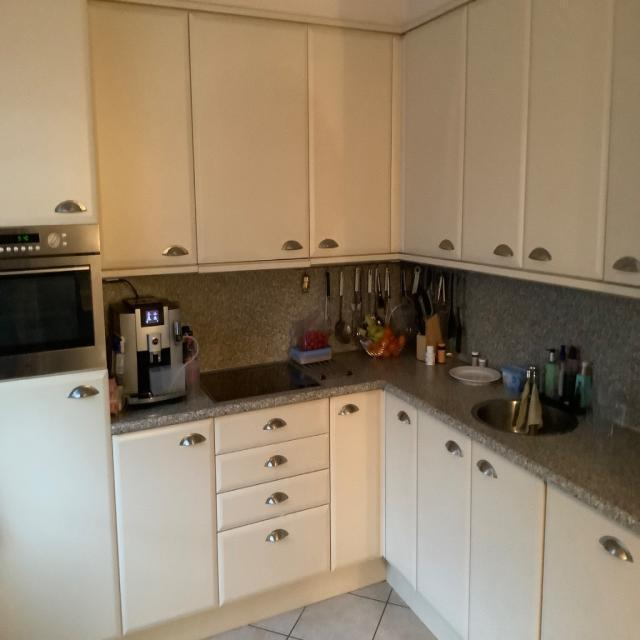cabinet_door: (0, 373, 117, 640), (200, 33, 312, 261), (98, 15, 190, 265), (0, 0, 94, 225), (114, 428, 218, 623), (528, 0, 603, 270), (309, 40, 391, 255), (461, 5, 519, 263), (399, 46, 463, 259), (472, 457, 540, 640), (545, 522, 637, 639), (604, 2, 636, 285), (418, 423, 465, 597), (336, 398, 376, 560), (223, 522, 324, 581), (388, 403, 416, 565), (220, 409, 324, 443), (226, 481, 326, 515), (223, 442, 325, 475)
handle: (0, 259, 89, 288), (593, 529, 639, 566), (48, 195, 86, 221), (611, 250, 640, 282), (65, 381, 104, 404), (472, 456, 502, 484), (161, 237, 191, 262), (527, 240, 553, 268), (490, 238, 515, 264), (176, 430, 208, 450), (279, 233, 304, 258), (316, 231, 341, 255), (442, 438, 467, 462), (436, 233, 458, 258), (393, 407, 417, 429), (265, 526, 290, 546), (263, 416, 288, 435), (334, 403, 363, 419), (267, 488, 290, 508), (264, 452, 288, 471)
